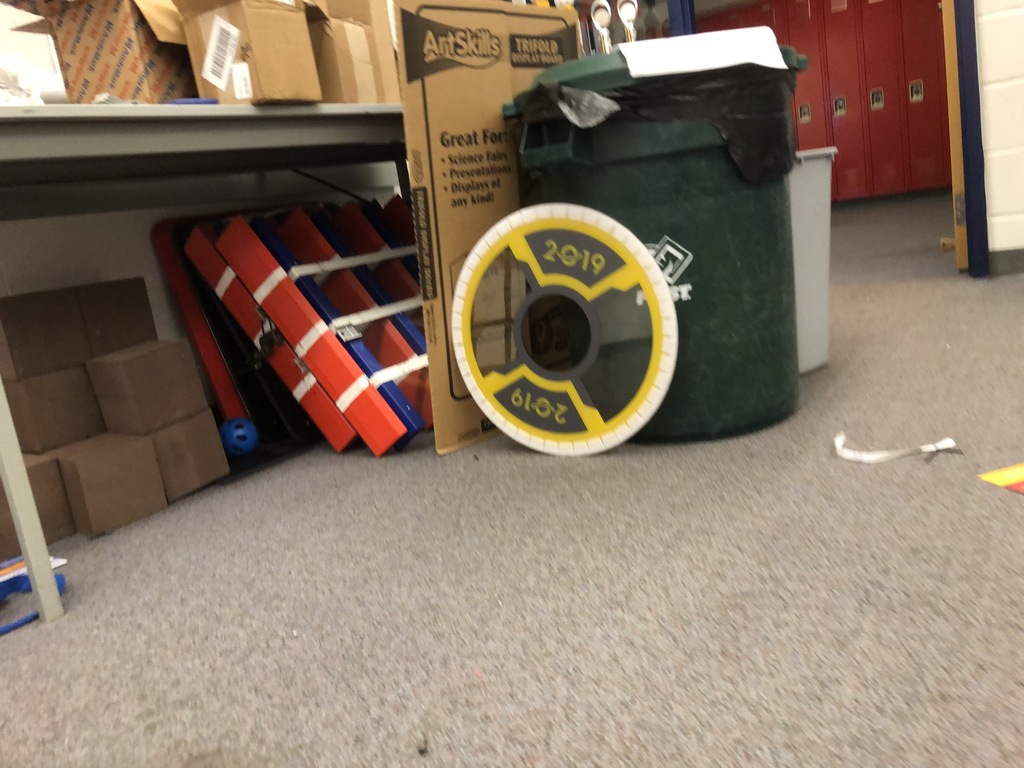hatch_panel: (424, 173, 701, 471)
